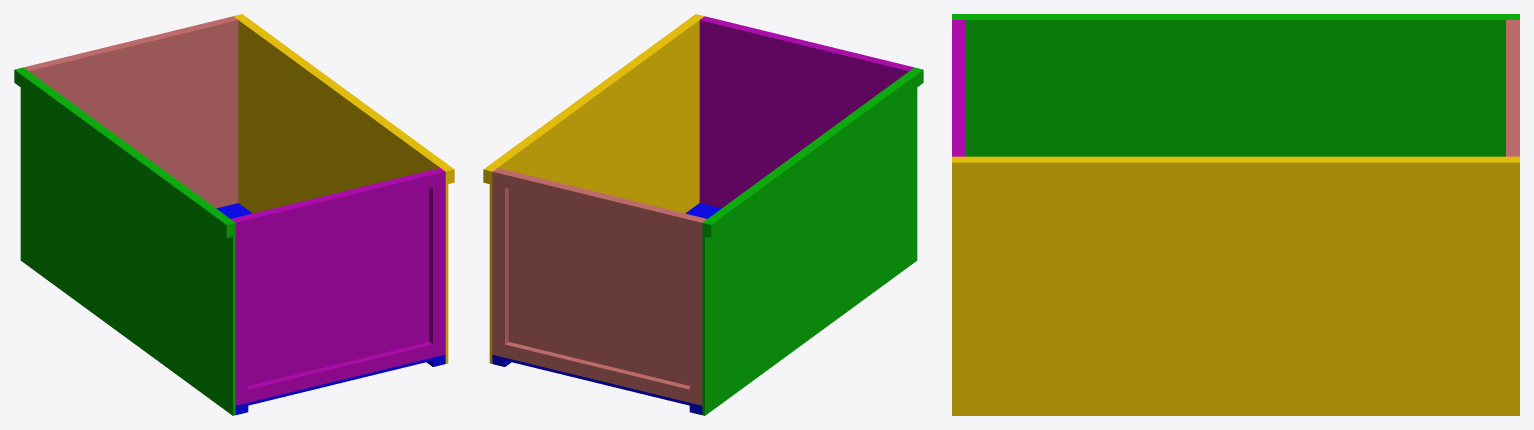
File: result.glb
3 views of the same model, side by side, from view 1: azimuth 30°, elevation 25°; view 2: azimuth 150°, elevation 25°; view 3: azimuth 270°, elevation 25° (orthographic). The views are drawn at different scales.
Visible parts, largest first — view 1: 81605798-3745-4cfb-9b58-010b280e59d8__Box_6, 69368f9e-7c93-46dd-ad8f-2b0fbcbdc392__Box_3, 0ceabd0f-e42d-4566-975b-a33c43a63cd0__undefined, 9db75417-b9a7-407a-a823-7033a861891c__undefined, 1576171e-1d20-4621-a4e5-f8551cf67f98__Box_7, 15f56ee9-2764-4c9a-b8b8-ad7ae20e2d60__undefined, 26288af7-37ed-42ca-920a-805a2b0b56c5__Box_5, 699a4034-40bf-4a02-a2a2-1b24b55fc41f__undefined, 0d55f919-a07b-4d5d-a203-3c9f3acc1ca7__Box_4, f5921a00-53b2-44a0-ab85-2f54b612e5a6__undefined, 8fb117d0-3825-48f1-a8f8-1ae62dff3dbb__Box, ca8105e3-193a-40a9-aa1d-9bc01213edf2__undefined; view 2: 81605798-3745-4cfb-9b58-010b280e59d8__Box_6, 0ceabd0f-e42d-4566-975b-a33c43a63cd0__undefined, 69368f9e-7c93-46dd-ad8f-2b0fbcbdc392__Box_3, 9db75417-b9a7-407a-a823-7033a861891c__undefined, 1576171e-1d20-4621-a4e5-f8551cf67f98__Box_7, ca8105e3-193a-40a9-aa1d-9bc01213edf2__undefined, 17403e4b-de19-4687-9356-0024493f2c11__undefined, 8d383360-6c29-4b08-98da-3c8a52d4655c__undefined, c91192db-a0d6-4604-ad1e-d8a6fa2ad20c__undefined, f5921a00-53b2-44a0-ab85-2f54b612e5a6__undefined, 8fb117d0-3825-48f1-a8f8-1ae62dff3dbb__Box, 15f56ee9-2764-4c9a-b8b8-ad7ae20e2d60__undefined; view 3: 9db75417-b9a7-407a-a823-7033a861891c__undefined, 81605798-3745-4cfb-9b58-010b280e59d8__Box_6, f5921a00-53b2-44a0-ab85-2f54b612e5a6__undefined, 1576171e-1d20-4621-a4e5-f8551cf67f98__Box_7, 15f56ee9-2764-4c9a-b8b8-ad7ae20e2d60__undefined, ca8105e3-193a-40a9-aa1d-9bc01213edf2__undefined, 69368f9e-7c93-46dd-ad8f-2b0fbcbdc392__Box_3, 0ceabd0f-e42d-4566-975b-a33c43a63cd0__undefined.
Part boxes in pixels (box(x1,y1,x2,y2)): 81605798-3745-4cfb-9b58-010b280e59d8__Box_6: box(20, 67, 235, 415); 69368f9e-7c93-46dd-ad8f-2b0fbcbdc392__Box_3: box(231, 168, 441, 385); 0ceabd0f-e42d-4566-975b-a33c43a63cd0__undefined: box(27, 19, 238, 208); 9db75417-b9a7-407a-a823-7033a861891c__undefined: box(233, 15, 448, 363); 1576171e-1d20-4621-a4e5-f8551cf67f98__Box_7: box(14, 68, 232, 237); 15f56ee9-2764-4c9a-b8b8-ad7ae20e2d60__undefined: box(245, 172, 432, 232); 26288af7-37ed-42ca-920a-805a2b0b56c5__Box_5: box(248, 342, 432, 402); 699a4034-40bf-4a02-a2a2-1b24b55fc41f__undefined: box(429, 169, 445, 357); 0d55f919-a07b-4d5d-a203-3c9f3acc1ca7__Box_4: box(232, 217, 248, 405); f5921a00-53b2-44a0-ab85-2f54b612e5a6__undefined: box(236, 14, 454, 183); 8fb117d0-3825-48f1-a8f8-1ae62dff3dbb__Box: box(216, 203, 445, 408); ca8105e3-193a-40a9-aa1d-9bc01213edf2__undefined: box(36, 19, 223, 66); 81605798-3745-4cfb-9b58-010b280e59d8__Box_6: box(702, 67, 917, 415); 0ceabd0f-e42d-4566-975b-a33c43a63cd0__undefined: box(496, 168, 706, 385); 69368f9e-7c93-46dd-ad8f-2b0fbcbdc392__Box_3: box(699, 19, 910, 208); 9db75417-b9a7-407a-a823-7033a861891c__undefined: box(489, 15, 704, 363); 1576171e-1d20-4621-a4e5-f8551cf67f98__Box_7: box(705, 68, 923, 237); ca8105e3-193a-40a9-aa1d-9bc01213edf2__undefined: box(505, 172, 692, 232); 17403e4b-de19-4687-9356-0024493f2c11__undefined: box(505, 342, 689, 402); 8d383360-6c29-4b08-98da-3c8a52d4655c__undefined: box(492, 169, 508, 357); c91192db-a0d6-4604-ad1e-d8a6fa2ad20c__undefined: box(689, 217, 705, 405); f5921a00-53b2-44a0-ab85-2f54b612e5a6__undefined: box(483, 14, 701, 183); 8fb117d0-3825-48f1-a8f8-1ae62dff3dbb__Box: box(492, 203, 721, 408); 15f56ee9-2764-4c9a-b8b8-ad7ae20e2d60__undefined: box(714, 19, 901, 66); 9db75417-b9a7-407a-a823-7033a861891c__undefined: box(952, 156, 1519, 415); 81605798-3745-4cfb-9b58-010b280e59d8__Box_6: box(952, 18, 1519, 156); f5921a00-53b2-44a0-ab85-2f54b612e5a6__undefined: box(952, 158, 1519, 180); 1576171e-1d20-4621-a4e5-f8551cf67f98__Box_7: box(952, 14, 1519, 17); 15f56ee9-2764-4c9a-b8b8-ad7ae20e2d60__undefined: box(952, 28, 961, 148); ca8105e3-193a-40a9-aa1d-9bc01213edf2__undefined: box(1510, 28, 1519, 148); 69368f9e-7c93-46dd-ad8f-2b0fbcbdc392__Box_3: box(961, 20, 965, 156); 0ceabd0f-e42d-4566-975b-a33c43a63cd0__undefined: box(1506, 20, 1510, 156).
Size of the model in its own units: 652 by 526 by 1052.
